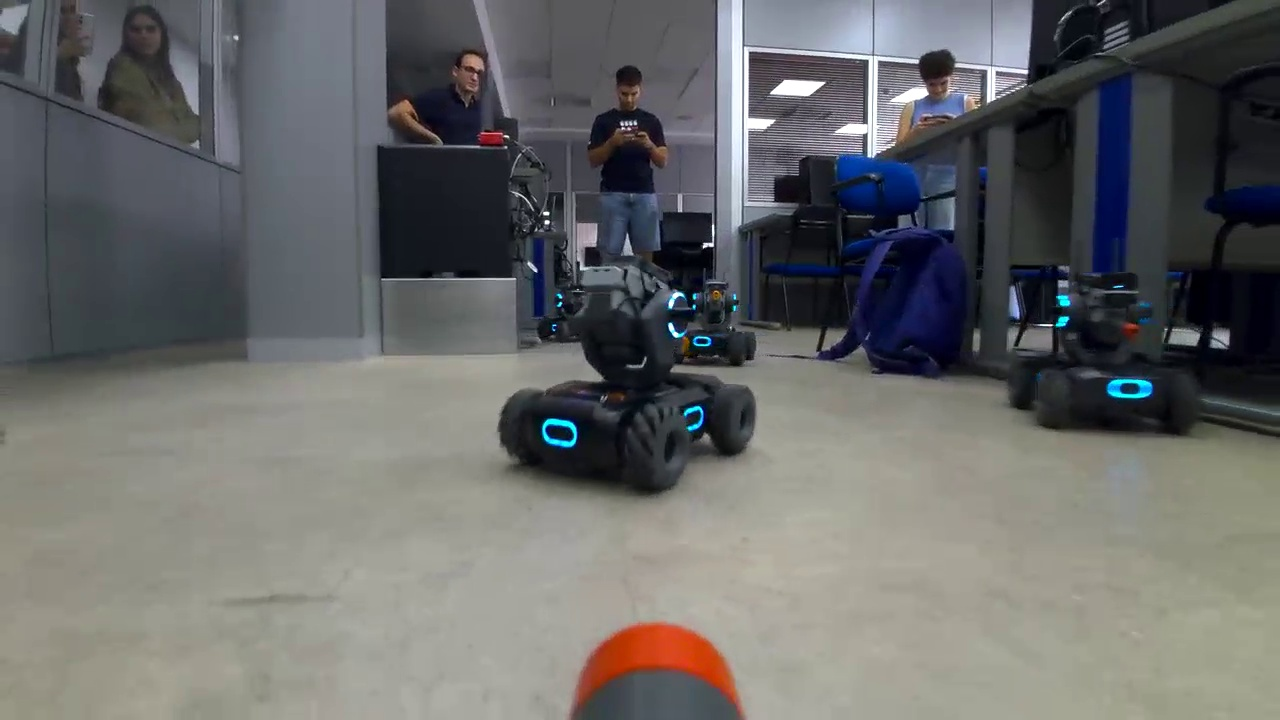robot: (491, 255, 761, 494), (1000, 265, 1206, 443), (676, 276, 759, 371), (533, 284, 587, 341)
